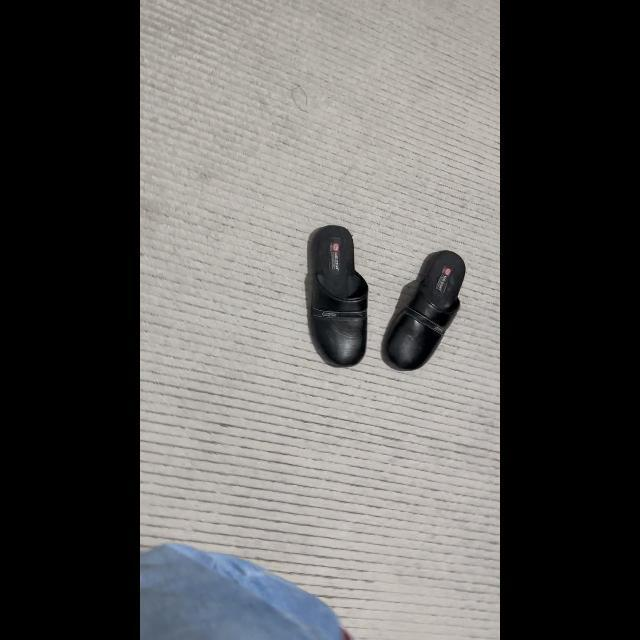slipper: (388, 246, 468, 382), (301, 224, 373, 368)
